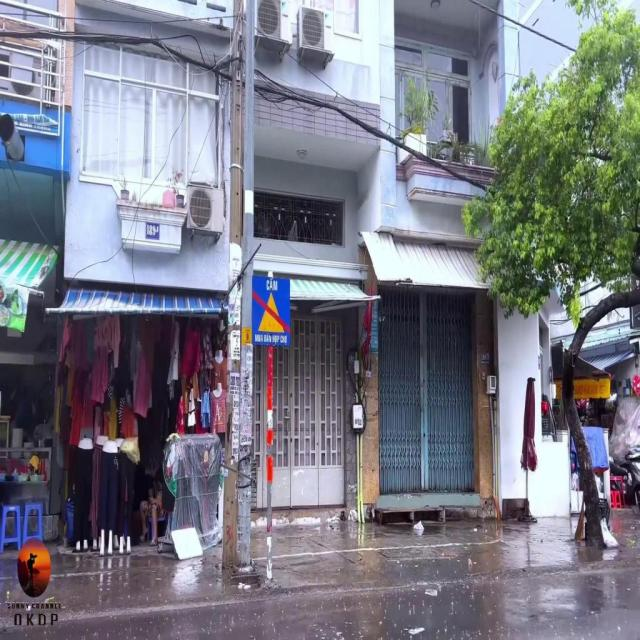khac: (252, 276, 290, 348)
